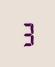three: (19, 20, 34, 46)
